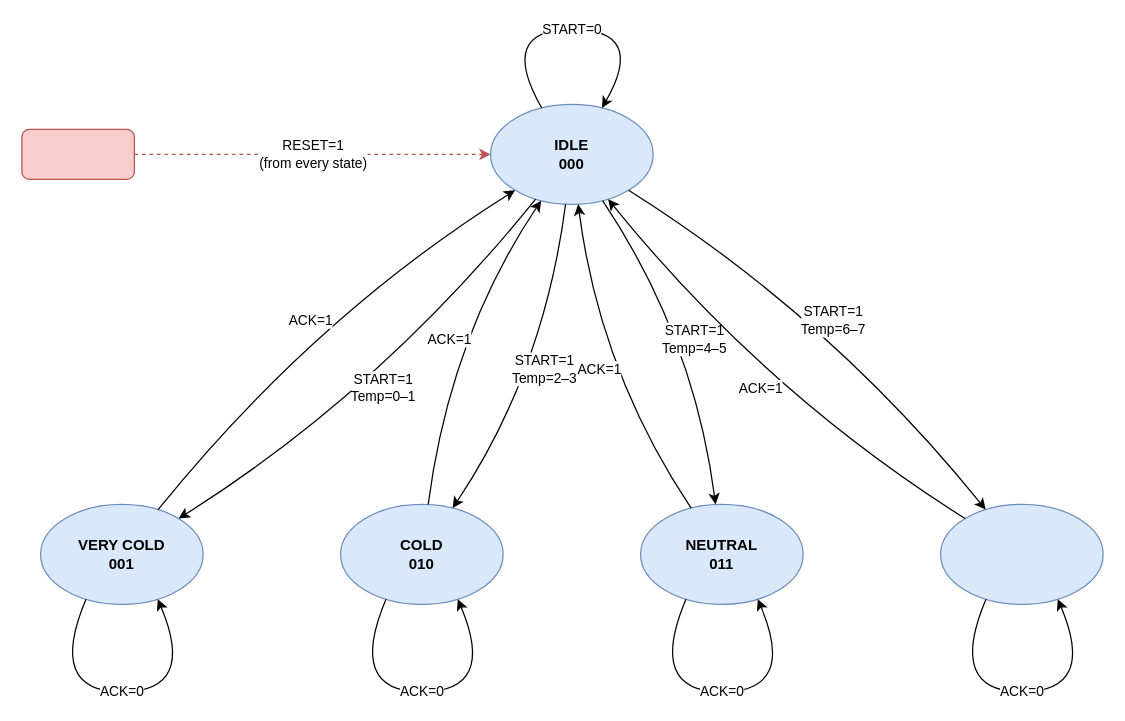
This 1125x721 diagram has some shape labels left out. The centre of each missing label's shape, as x and y in pixels:
HOT 100: point 1021,553
RESET: point 77,153
